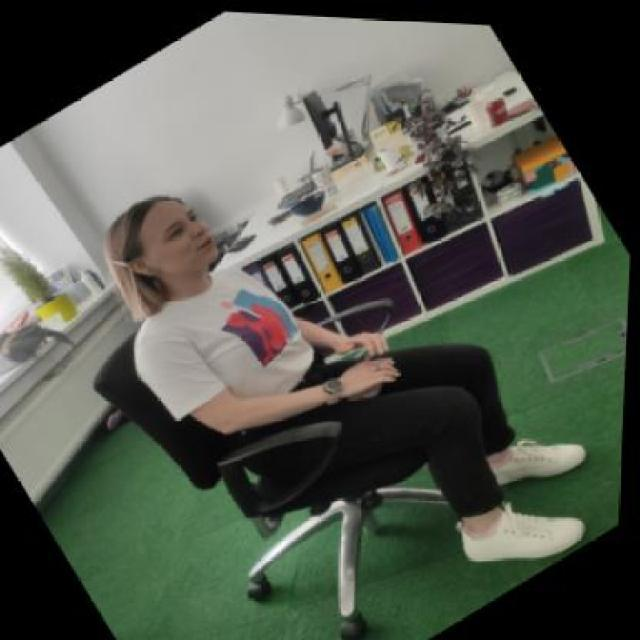chair: (68, 184, 576, 638)
